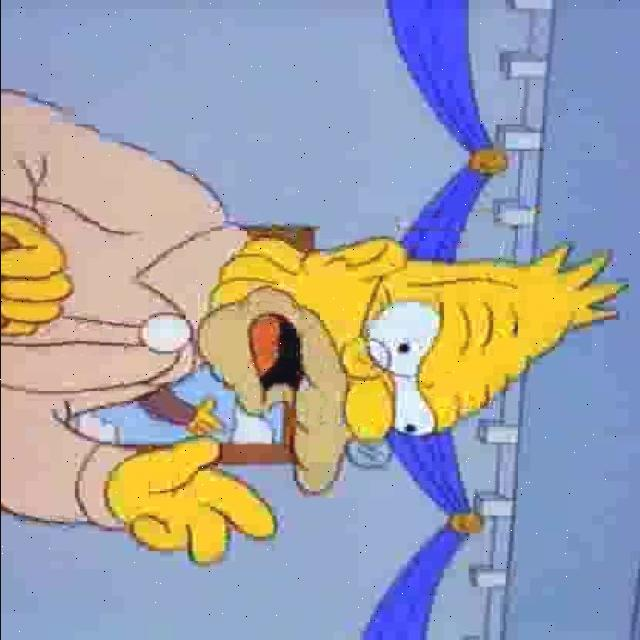Abraham Grampa Simpson: (187, 234, 631, 496)
